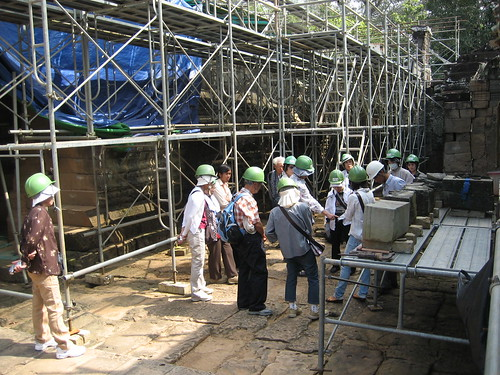person hardhat: (14, 174, 97, 358), (221, 166, 275, 317), (268, 174, 322, 319), (173, 162, 217, 309), (338, 164, 365, 308), (319, 167, 353, 265), (291, 153, 334, 227), (368, 158, 404, 196), (383, 148, 413, 191), (326, 148, 357, 175), (405, 152, 426, 179), (281, 152, 298, 183)
